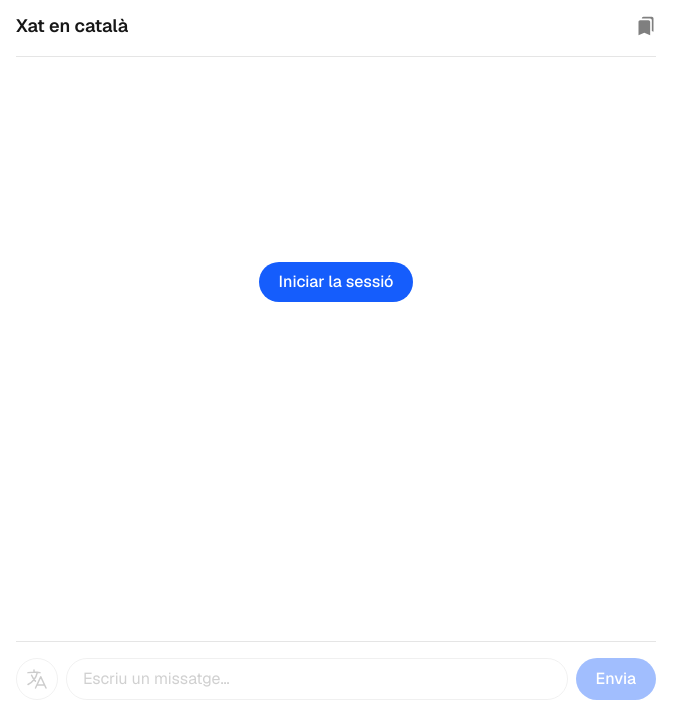
Test: hearing a reply › leaves nothing under the reply when the speech ends after the offer was dismissed
Click the button "Iniciar la sessió" at point(336, 282), box [258,262,414,302]
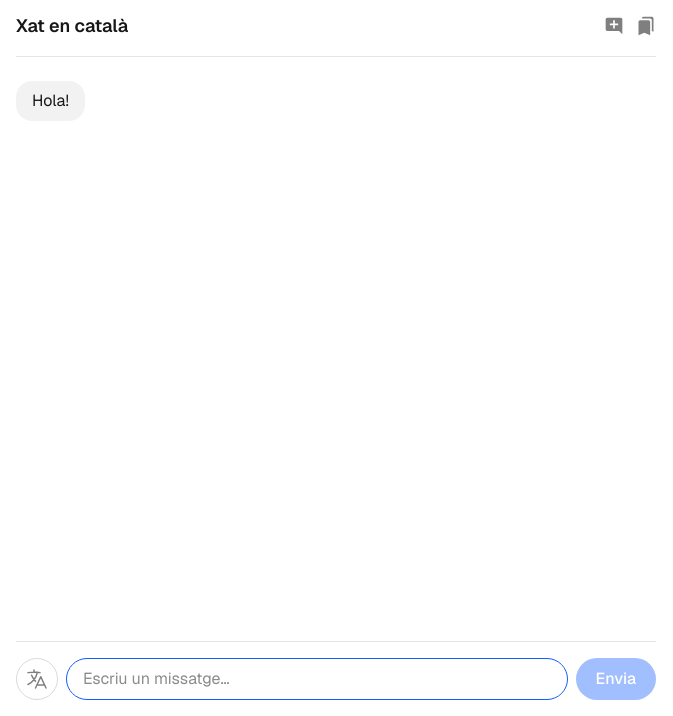
Click the text "Hola!" at point(50, 101), box [32,89,69,113]
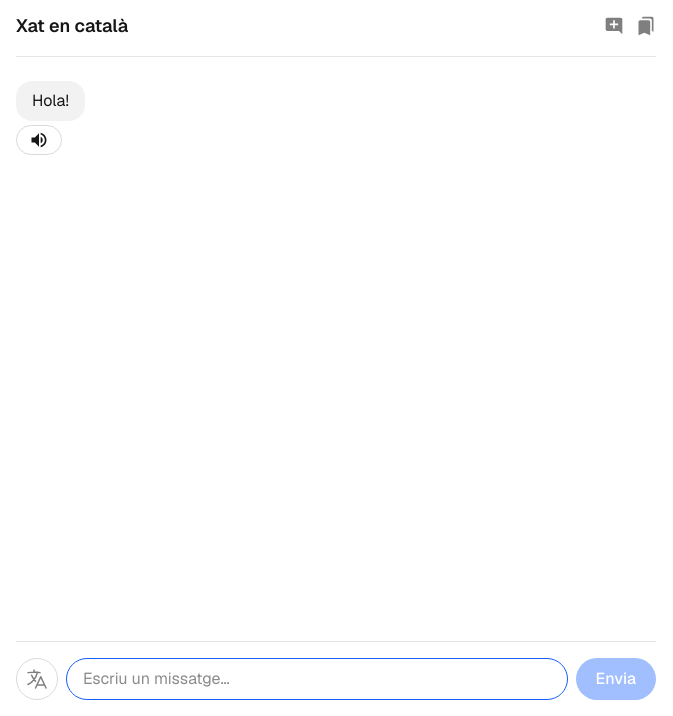
Click the button named "Escolta" at point(39, 140), box [16,125,62,155]
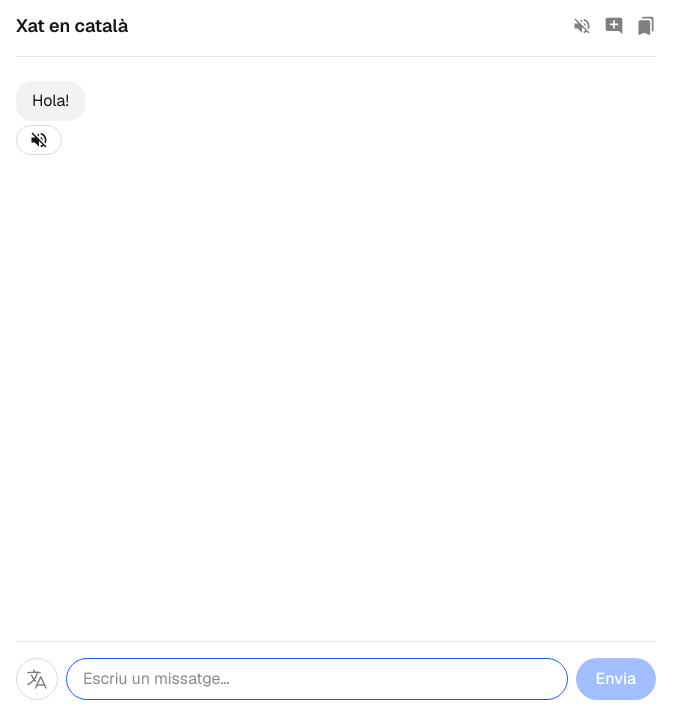
Press the mouse on the field at point(317, 679), box [66,658,568,700]
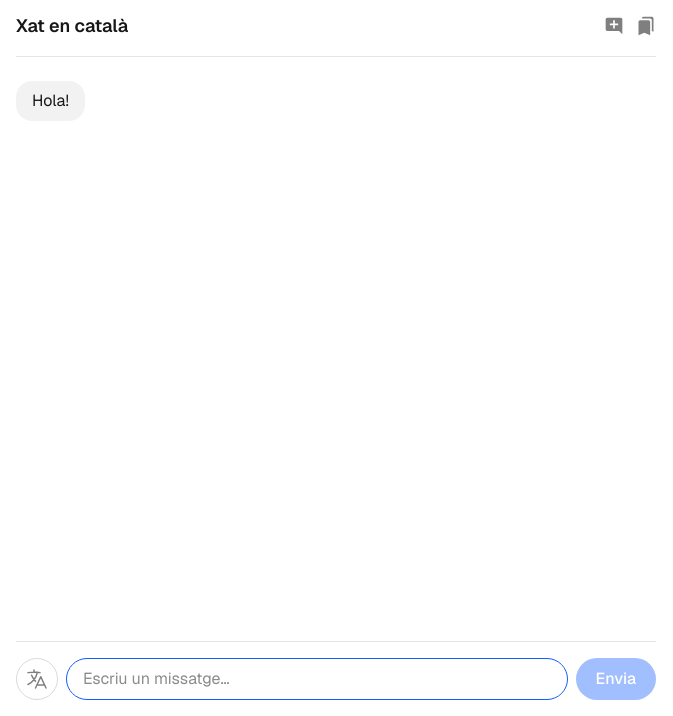
Result: the button "Silencia" is gone
